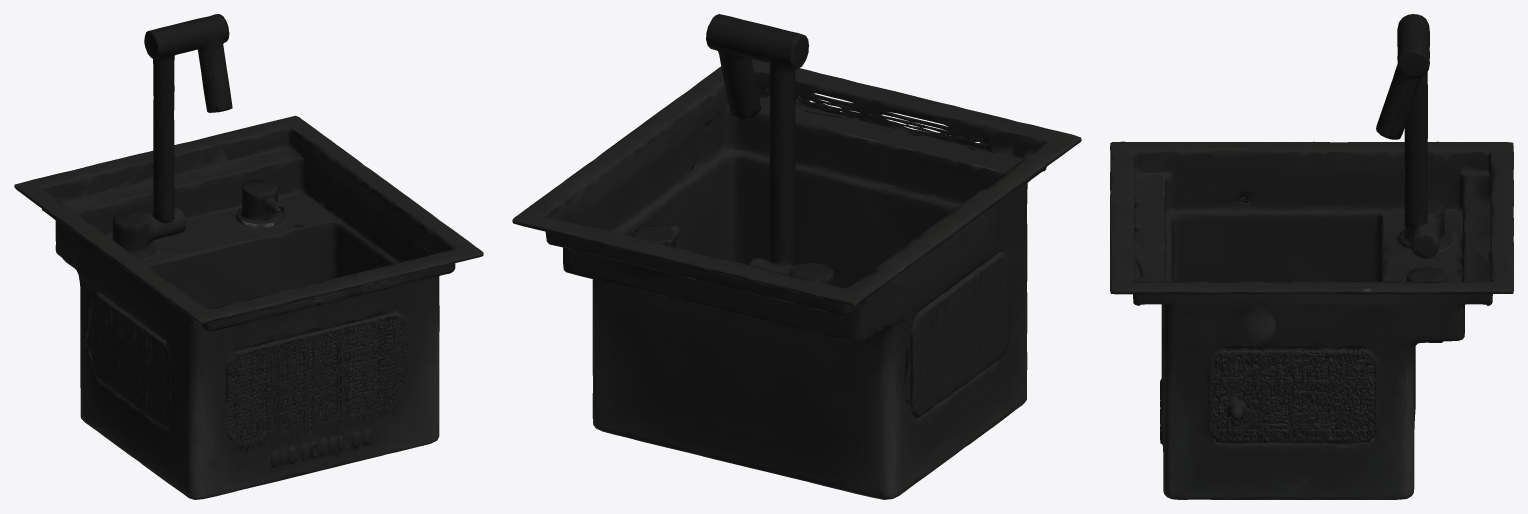
Rendered from SingleblackSink_w_Faucet.glb.
The picture shows the model from 3 angles, left to right: view 1: azimuth 30°, elevation 25°; view 2: azimuth 150°, elevation 25°; view 3: azimuth 270°, elevation 25°; orthographic projection. The views are drawn at different scales.
Parts seen in each view (by area): view 1: geometry_0; view 2: geometry_0; view 3: geometry_0.
Boxes of the visible parts, bbox=[...] form: geometry_0: bbox=[14, 14, 483, 499]; geometry_0: bbox=[512, 14, 1081, 499]; geometry_0: bbox=[1110, 14, 1513, 499].
Bounding box in the file's own units: 0.8136 × 0.9997 × 0.9243.
1 material, 1 textured.
